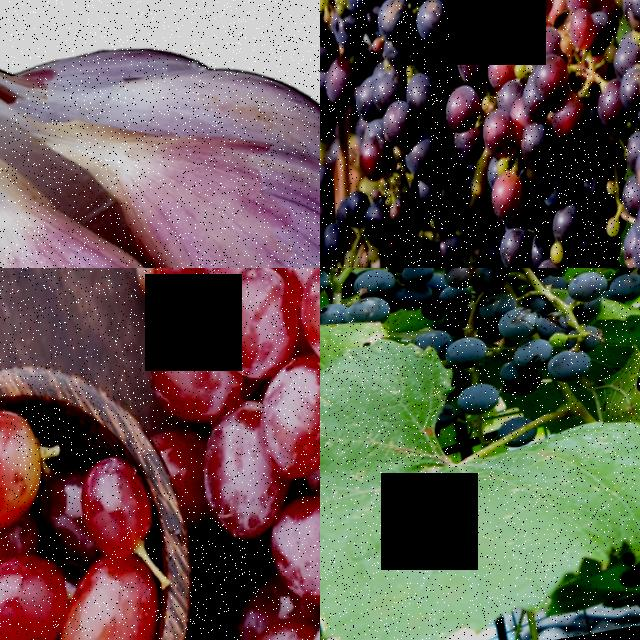garlic: (0, 0, 320, 268)
grapes: (128, 268, 320, 640), (435, 0, 640, 268), (0, 395, 203, 640), (320, 0, 501, 209), (408, 268, 617, 411), (580, 0, 640, 268), (320, 0, 362, 203)
